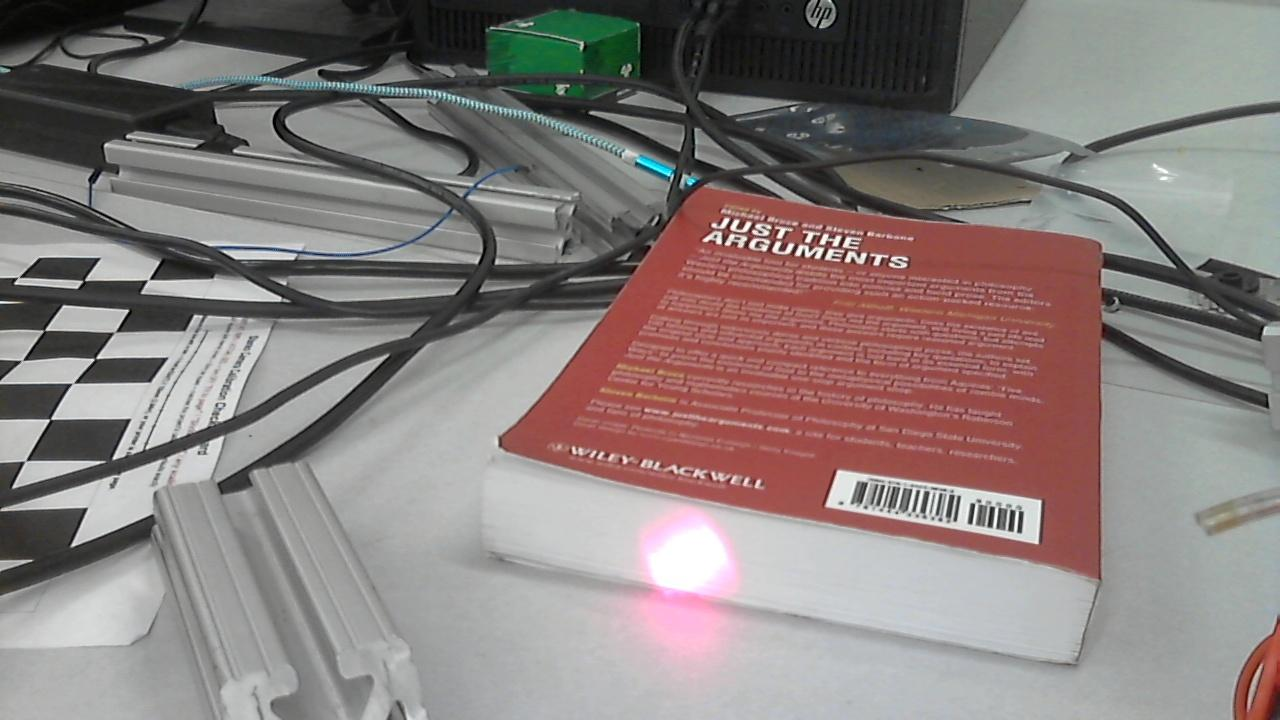Object book - Material paper - Color red - Pdfname QP9o9Hihi4G7: (593, 478, 769, 595)
